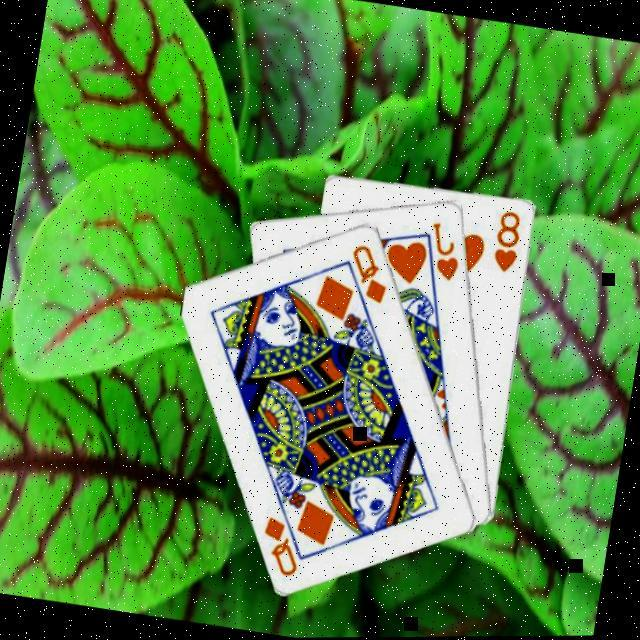8H: (490, 205, 529, 275)
JH: (422, 216, 469, 284)
QD: (255, 510, 309, 580), (343, 238, 397, 306)
